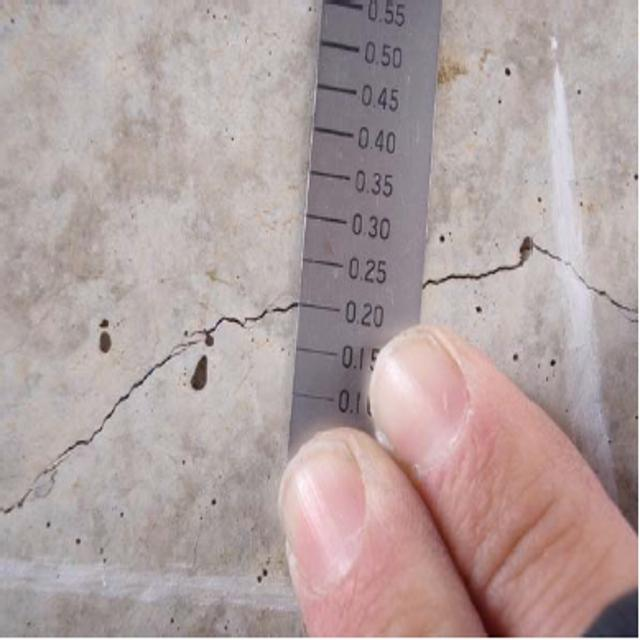crack: (7, 278, 296, 506), (425, 218, 640, 345)
